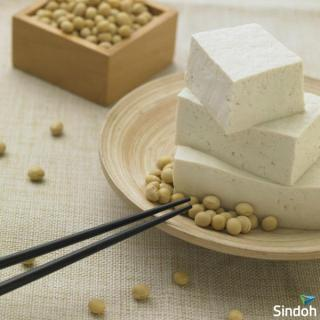Tahu: (170, 28, 320, 220)
